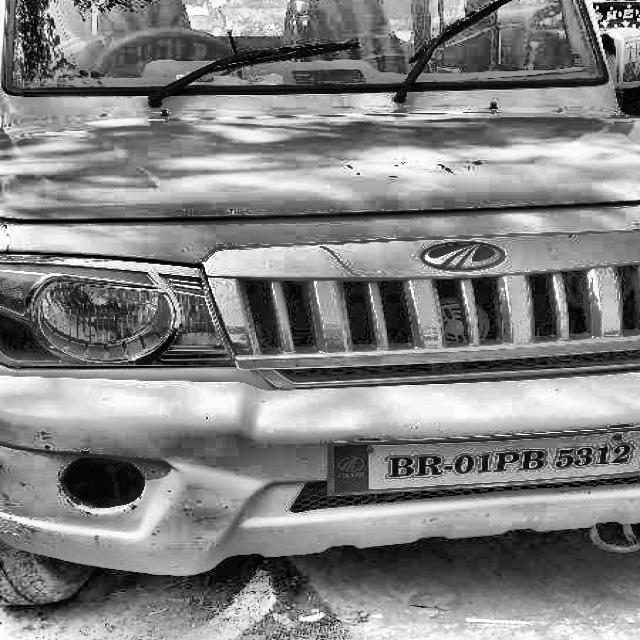light_vehicle: (0, 0, 640, 538)
